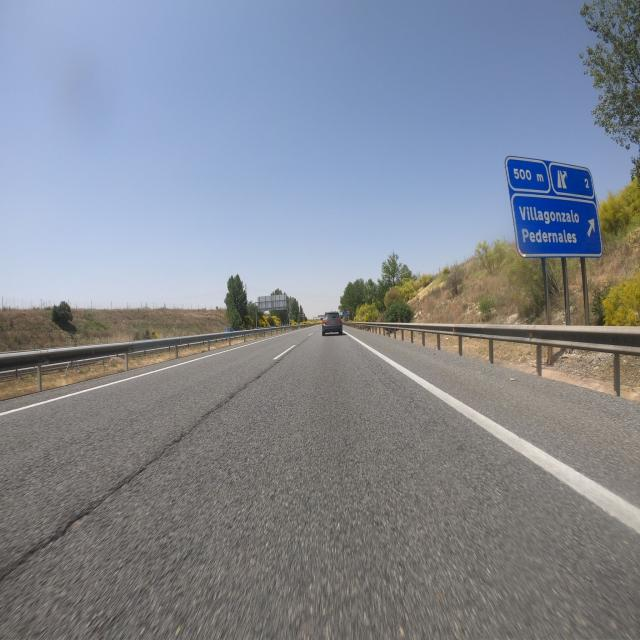car: (321, 311, 343, 336)
